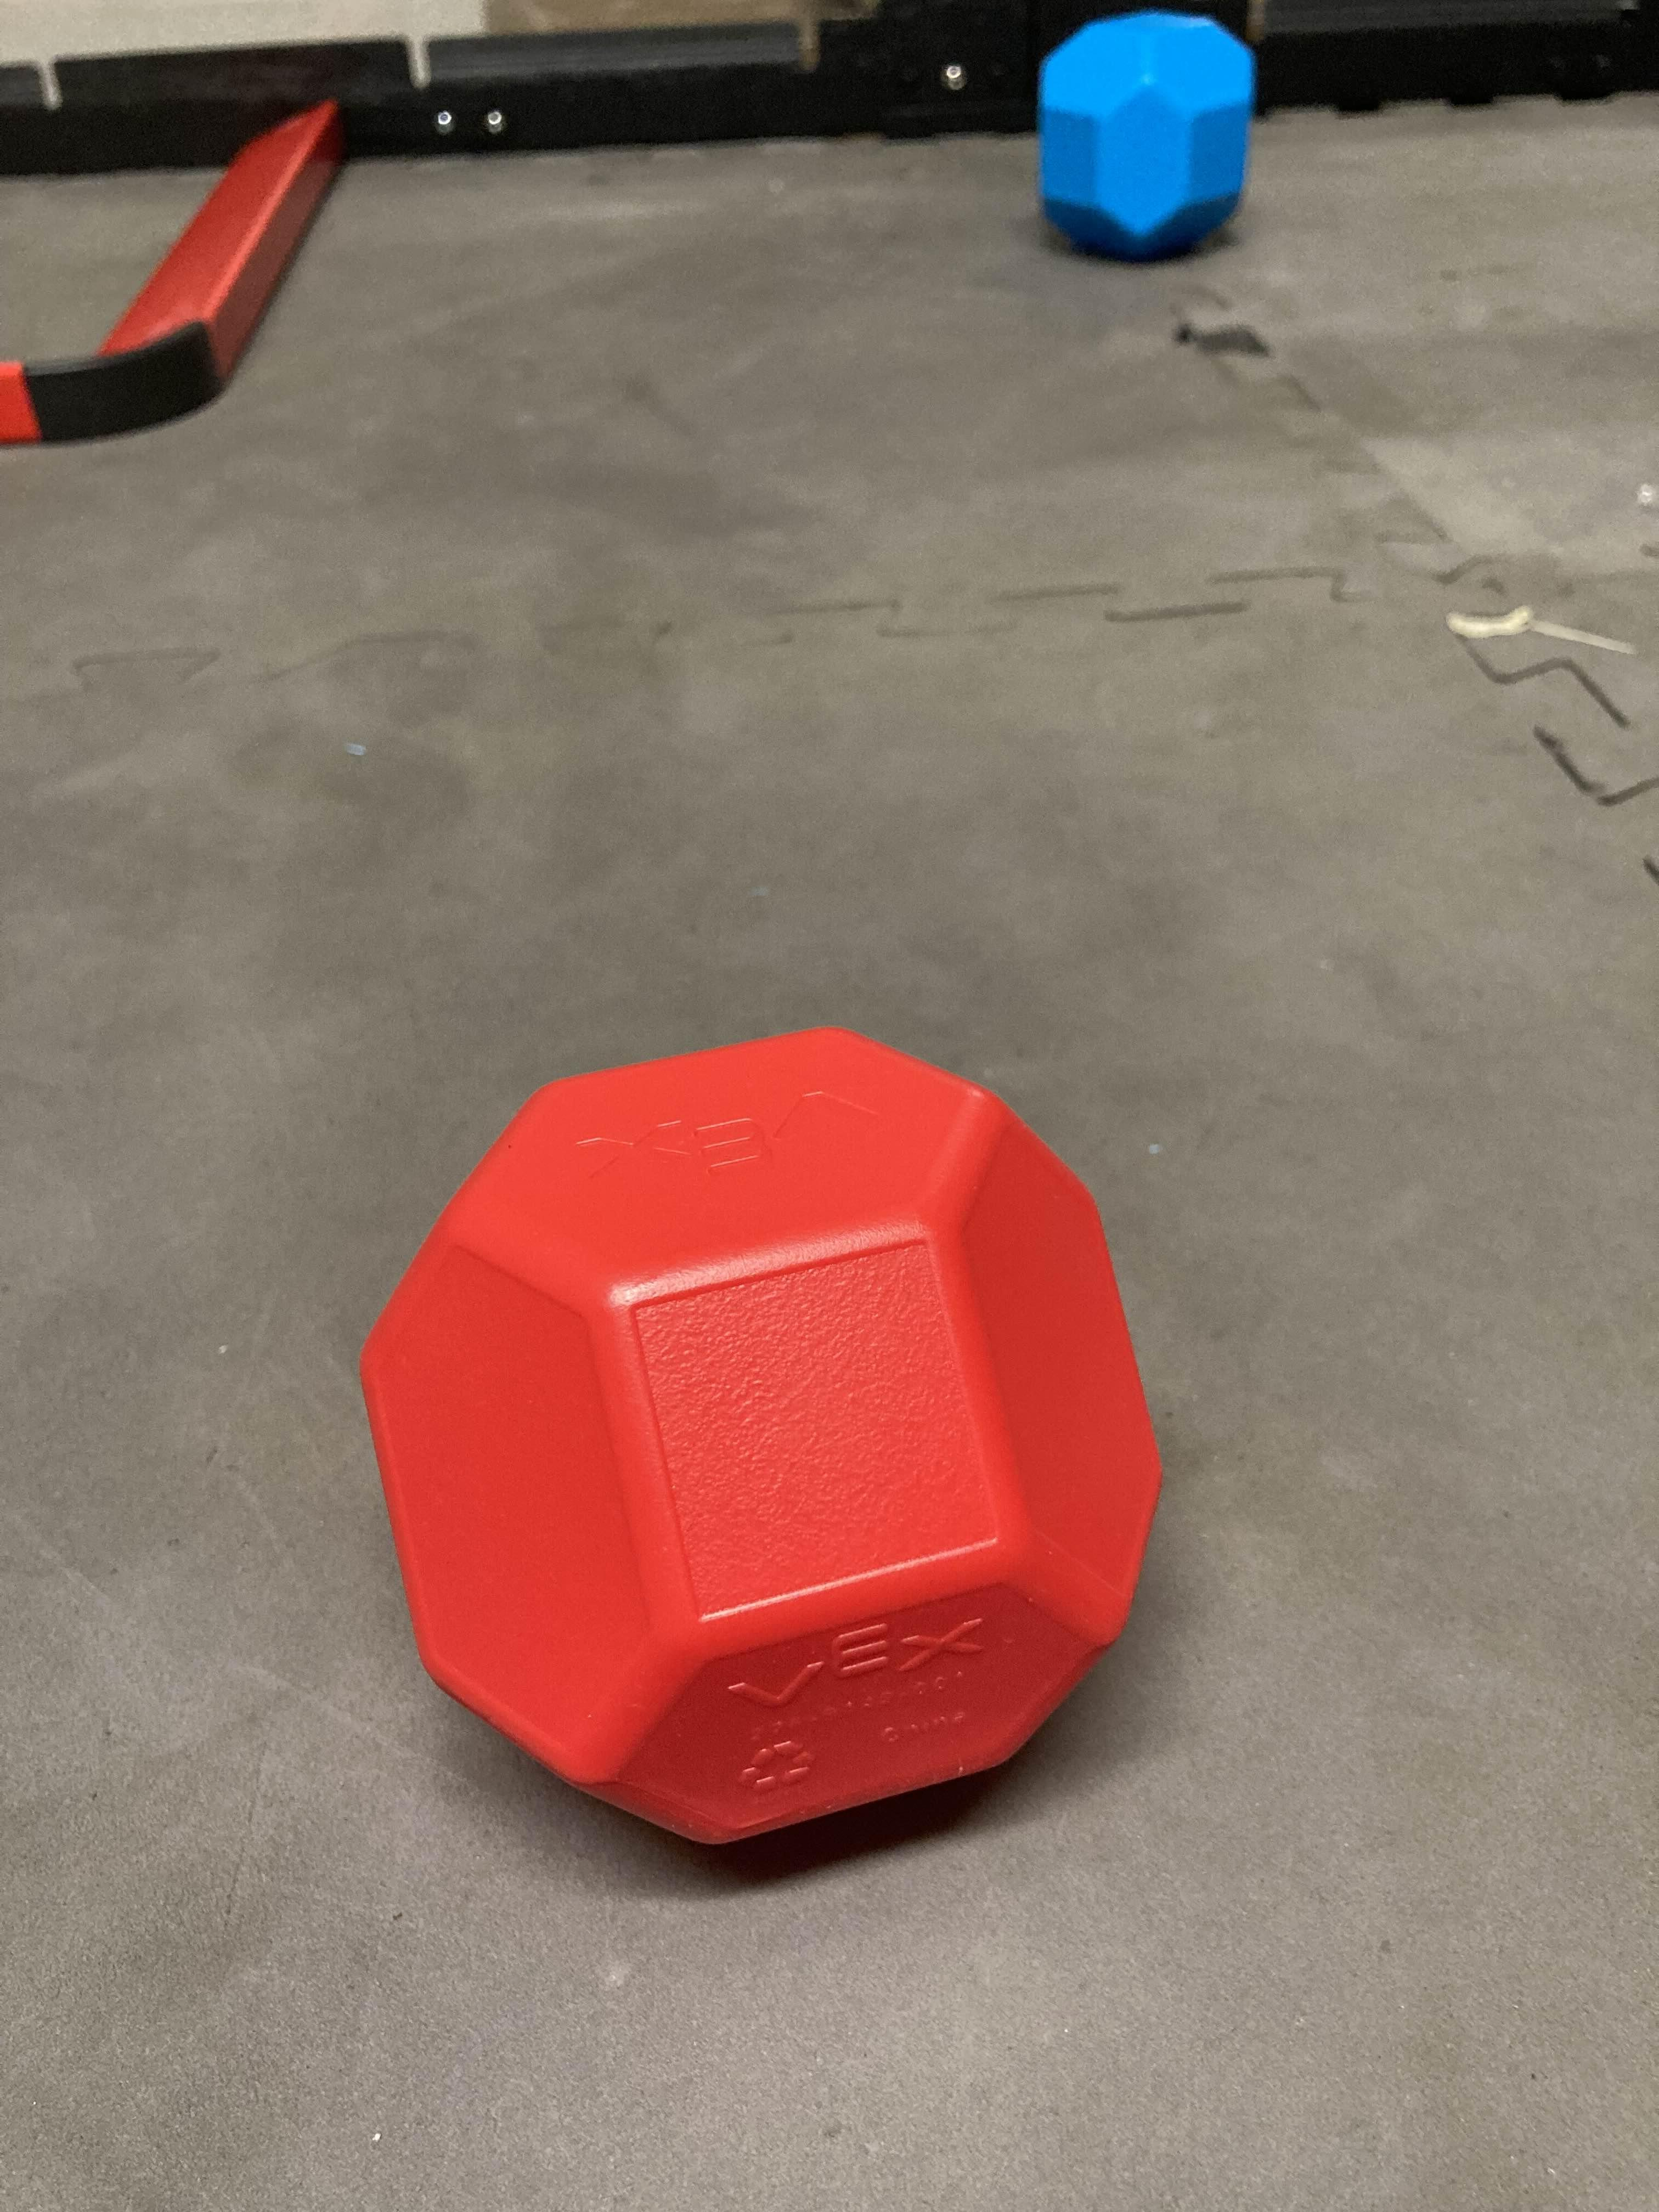Vex-Pieces-BLUE: (1037, 12, 1255, 258)
Vex-Pieces-RED: (356, 1029, 1162, 1855)
